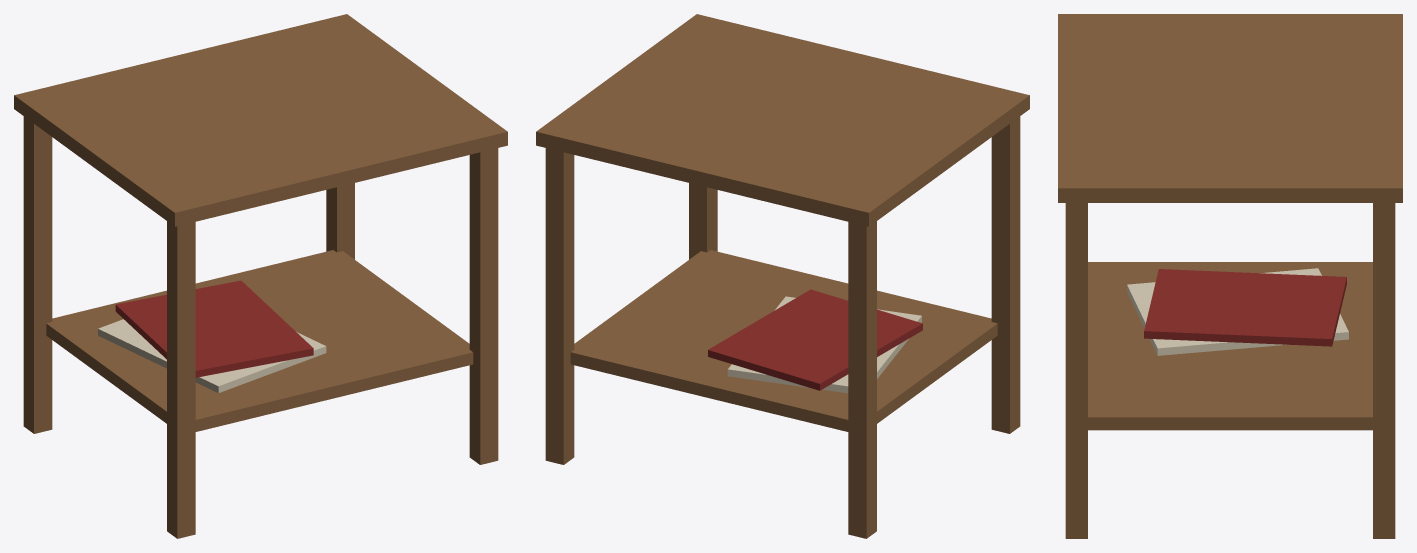
Rendered from end-table.glb.
The picture shows the model from 3 angles, left to right: view 1: azimuth 30°, elevation 25°; view 2: azimuth 150°, elevation 25°; view 3: azimuth 270°, elevation 25°; orthographic projection. The views are drawn at different scales.
Parts seen in each view (by area): view 1: end-table; view 2: end-table; view 3: end-table.
Boxes of the visible parts, box(x1,y1,x2,y2) form: end-table: box(14, 14, 507, 538); end-table: box(536, 14, 1029, 538); end-table: box(1058, 14, 1402, 538).
Size of the model in its own units: 2.01 by 1.9 by 1.68.
